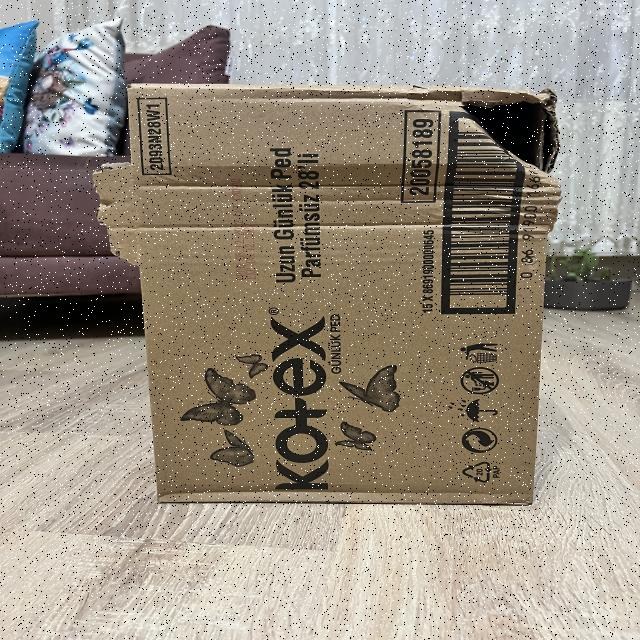damaged: (125, 78, 564, 516), (432, 73, 564, 201)
